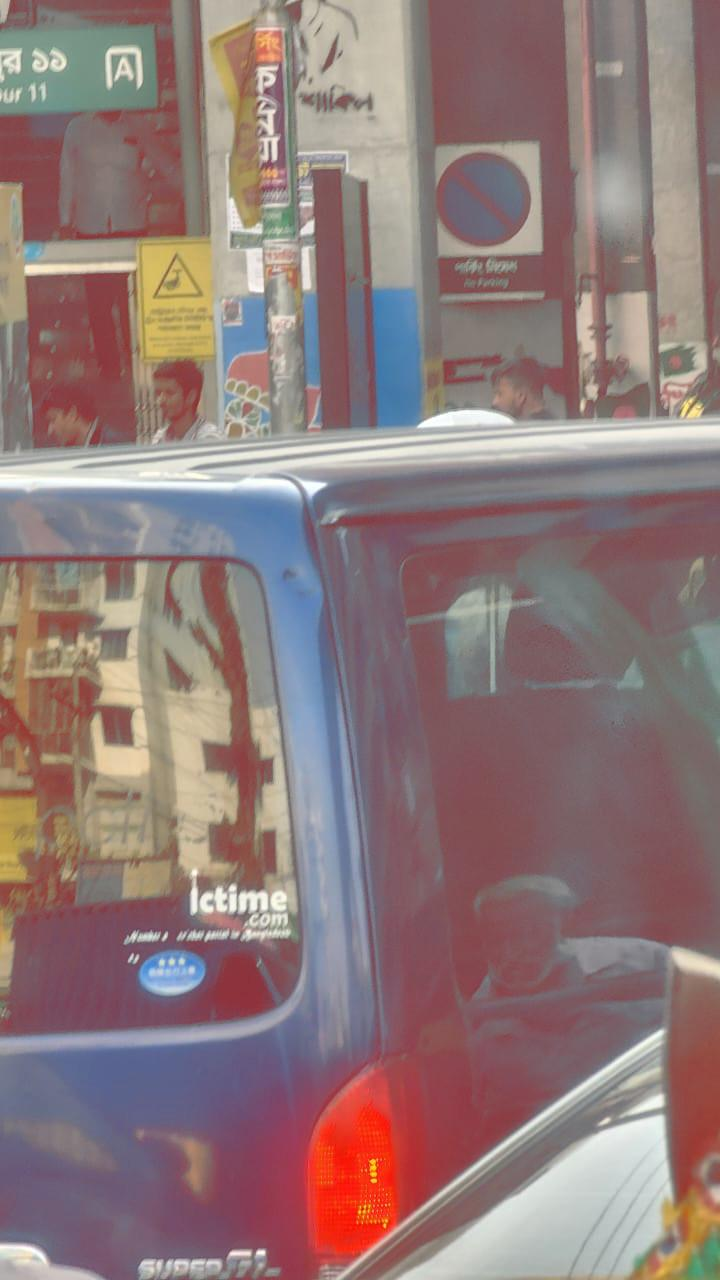No Parking: (436, 140, 548, 301)
